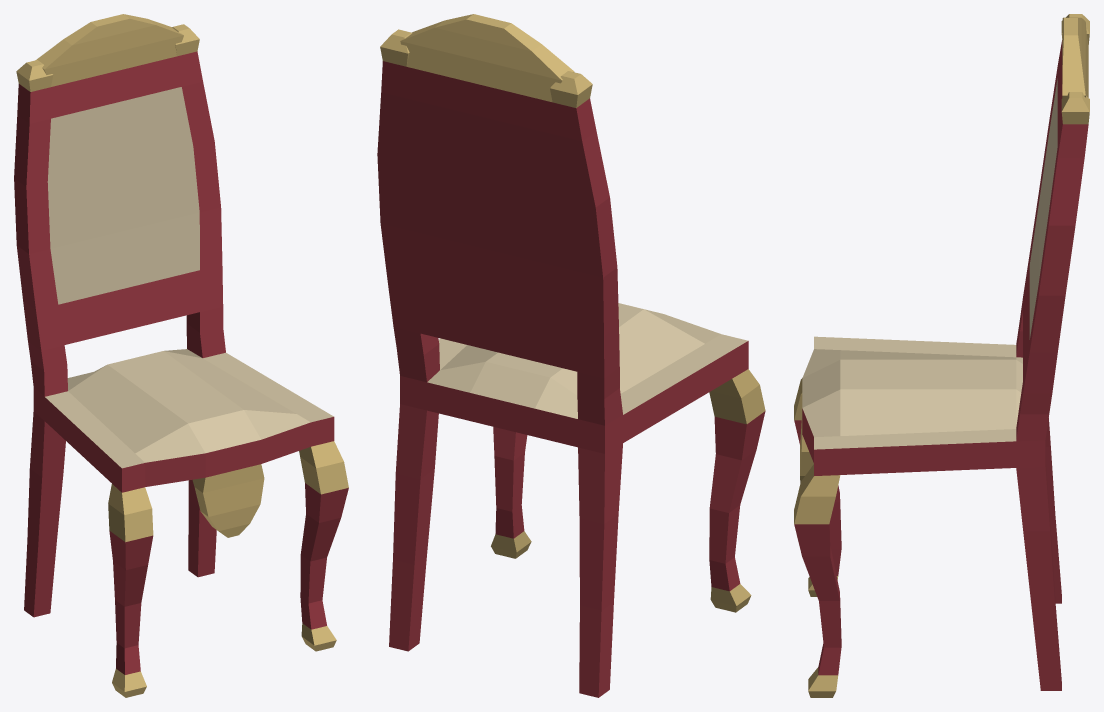
Rendered from sillarococo.fbx.
3 views of the same model, side by side, from view 1: azimuth 30°, elevation 25°; view 2: azimuth 150°, elevation 25°; view 3: azimuth 270°, elevation 25° (orthographic). The views are drawn at different scales.
Parts seen in each view (by area): view 1: silla_rococo; view 2: silla_rococo; view 3: silla_rococo.
Part boxes in pixels (bbox=[...]): silla_rococo: bbox=[14, 14, 348, 697]; silla_rococo: bbox=[377, 14, 765, 697]; silla_rococo: bbox=[794, 14, 1089, 697].
Size of the model in its own units: 48.03 by 116 by 50.46.
